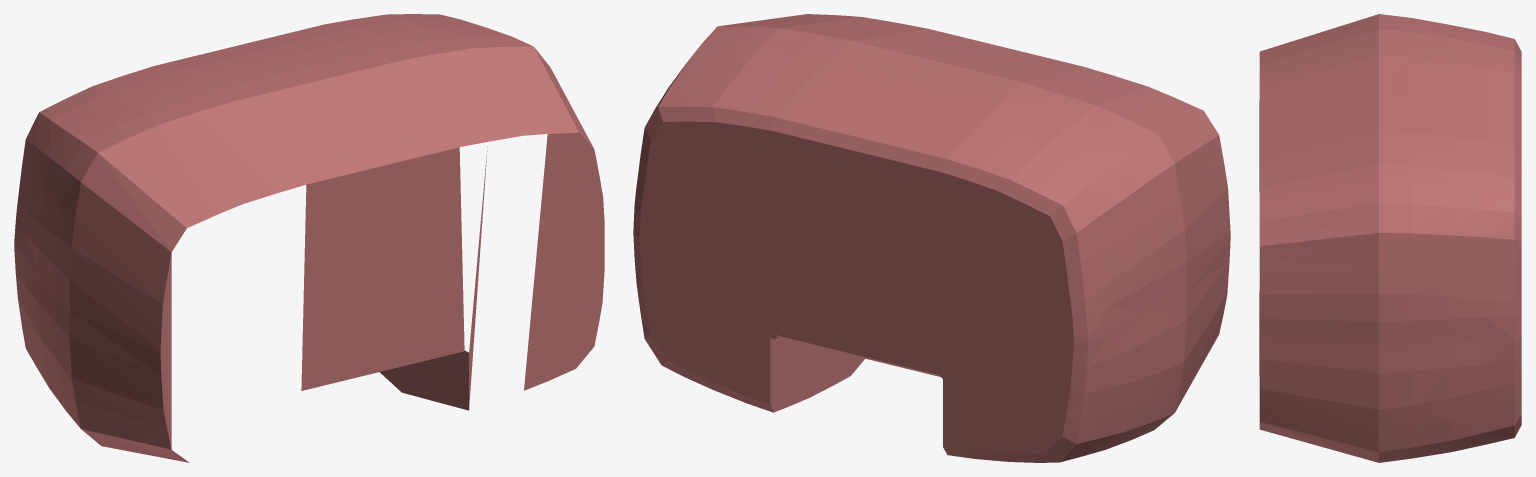
File: robot__visual__rx78_Null_018_link__rx78_Null_017_link__rx78_object_083-lib.dae_1.glb
3 renders of one model, left to right at view 1: azimuth 30°, elevation 25°; view 2: azimuth 150°, elevation 25°; view 3: azimuth 270°, elevation 25°, orthographic. The views are drawn at different scales.
Visible parts, largest first — view 1: world; view 2: world; view 3: world.
Boxes of the visible parts, x1,y1,x2,y2 form: world: (14, 14, 604, 462); world: (633, 14, 1230, 462); world: (1259, 14, 1521, 462).
Size of the model in its own units: 3.32 by 2.14 by 1.72.
